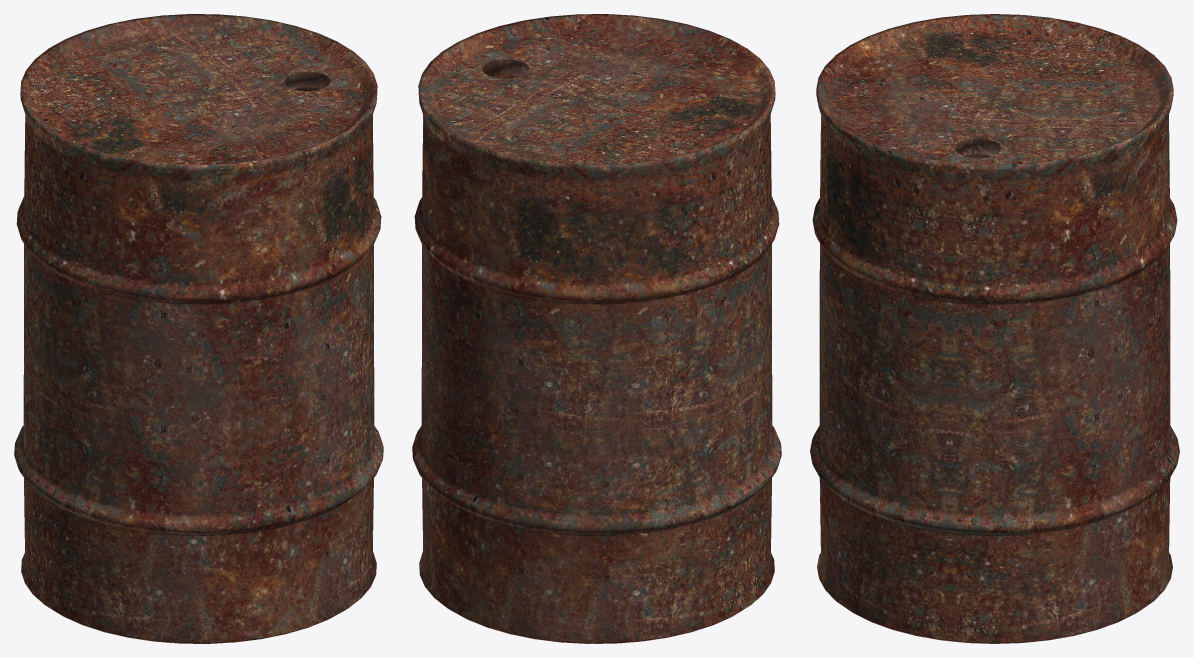
The model's file is bochka2.FBX.
3 views of the same model, side by side, from view 1: azimuth 30°, elevation 25°; view 2: azimuth 150°, elevation 25°; view 3: azimuth 270°, elevation 25° (orthographic).
Visible parts, largest first — view 1: polySurface7; view 2: polySurface7; view 3: polySurface7.
Boxes of the visible parts, left/top/right/bottom form: polySurface7: left=14, top=14, right=383, bottom=643; polySurface7: left=412, top=14, right=781, bottom=643; polySurface7: left=810, top=14, right=1179, bottom=643.
Size of the model in its own units: 2.15 by 3.08 by 2.15.
1 material, 1 textured.
